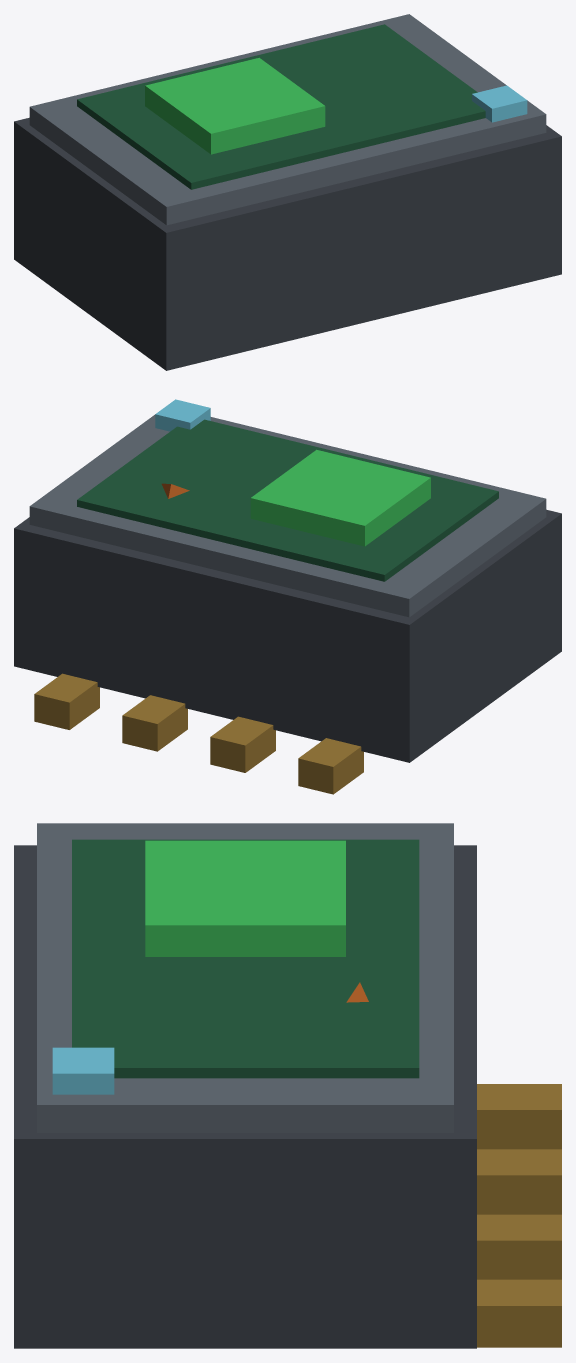
The model's file is droid-interfaced-assistance-protocol.lod.glb.
3 views of the same model, one above another, from view 1: azimuth 30°, elevation 25°; view 2: azimuth 150°, elevation 25°; view 3: azimuth 270°, elevation 25° (orthographic). The views are drawn at different scales.
Visible parts, largest first — view 1: m; view 2: m; view 3: m.
Boxes of the visible parts, bbox=[...] form: m: bbox=[14, 14, 561, 370]; m: bbox=[14, 399, 561, 794]; m: bbox=[14, 823, 561, 1348].
Size of the model in its own units: 0.1 by 0.05 by 0.0789.
